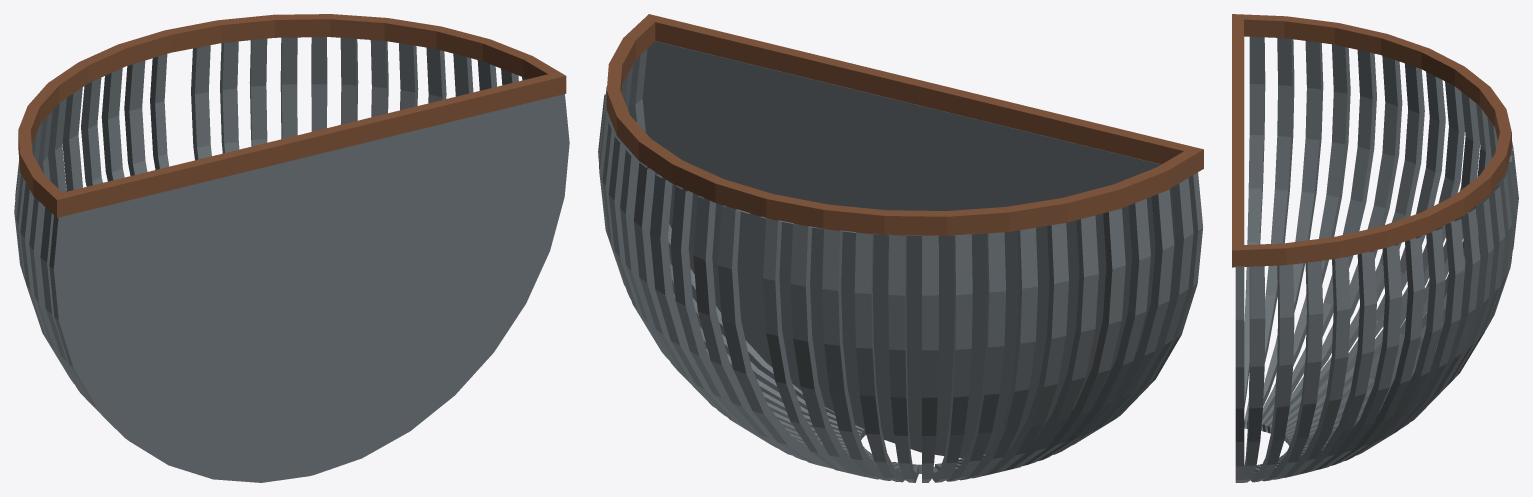
Rendered from HayFeeder.fbx.
The picture shows the model from 3 angles, left to right: view 1: azimuth 30°, elevation 25°; view 2: azimuth 150°, elevation 25°; view 3: azimuth 270°, elevation 25°; orthographic projection. The views are drawn at different scales.
Visible parts, largest first — view 1: Sphere; view 2: Sphere; view 3: Sphere.
Part boxes in pixels (left/top/right/bottom): Sphere: left=14, top=14, right=569, bottom=482; Sphere: left=598, top=14, right=1203, bottom=482; Sphere: left=1232, top=14, right=1518, bottom=482.
Bounding box in the file's own units: 163 × 102 × 82.26.
